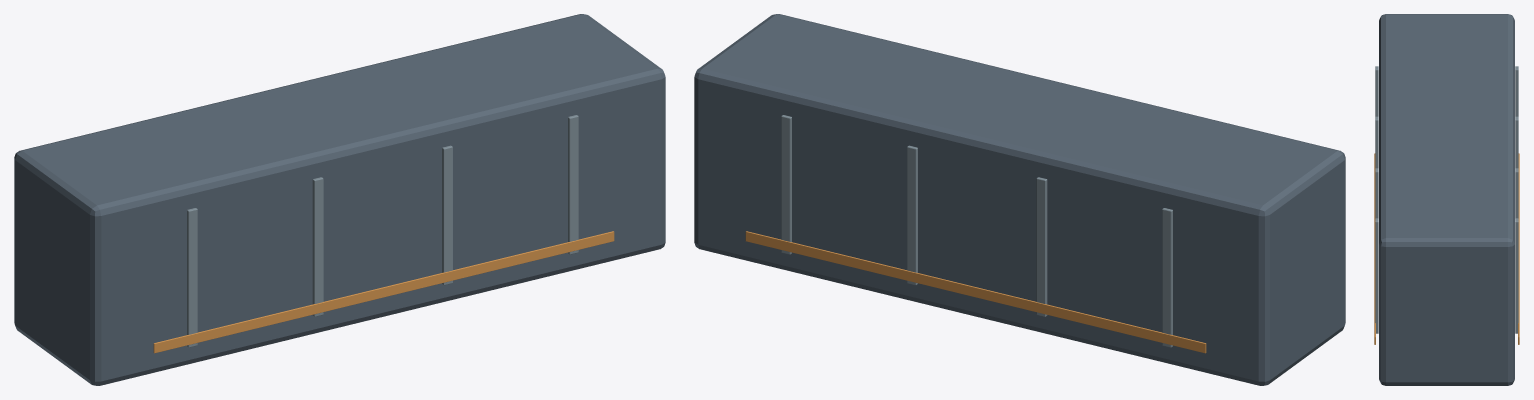
Rendered from training-cover.glb.
3 views of the same model, side by side, from view 1: azimuth 30°, elevation 25°; view 2: azimuth 150°, elevation 25°; view 3: azimuth 270°, elevation 25° (orthographic). The views are drawn at different scales.
Parts seen in each view (by area): view 1: Visual_TrainingCover_Shell, Visual_Merged_ZA_TrainingCover_Root_Neutral_Steel, Visual_Merged_ZA_TrainingCover_Root_Warning_Orange; view 2: Visual_TrainingCover_Shell, Visual_Merged_ZA_TrainingCover_Root_Neutral_Steel, Visual_Merged_ZA_TrainingCover_Root_Warning_Orange; view 3: Visual_TrainingCover_Shell, Visual_Merged_ZA_TrainingCover_Root_Neutral_Steel, Visual_Merged_ZA_TrainingCover_Root_Warning_Orange.
Boxes of the visible parts, x1,y1,x2,y2 form: Visual_TrainingCover_Shell: (14, 14, 665, 385); Visual_Merged_ZA_TrainingCover_Root_Neutral_Steel: (187, 115, 578, 347); Visual_Merged_ZA_TrainingCover_Root_Warning_Orange: (153, 231, 614, 353); Visual_TrainingCover_Shell: (694, 14, 1345, 385); Visual_Merged_ZA_TrainingCover_Root_Neutral_Steel: (781, 115, 1172, 347); Visual_Merged_ZA_TrainingCover_Root_Warning_Orange: (745, 231, 1206, 353); Visual_TrainingCover_Shell: (1379, 14, 1514, 385); Visual_Merged_ZA_TrainingCover_Root_Neutral_Steel: (1375, 66, 1518, 333); Visual_Merged_ZA_TrainingCover_Root_Warning_Orange: (1374, 153, 1519, 344).
Size of the model in its own units: 8 by 2.4 by 2.14.
